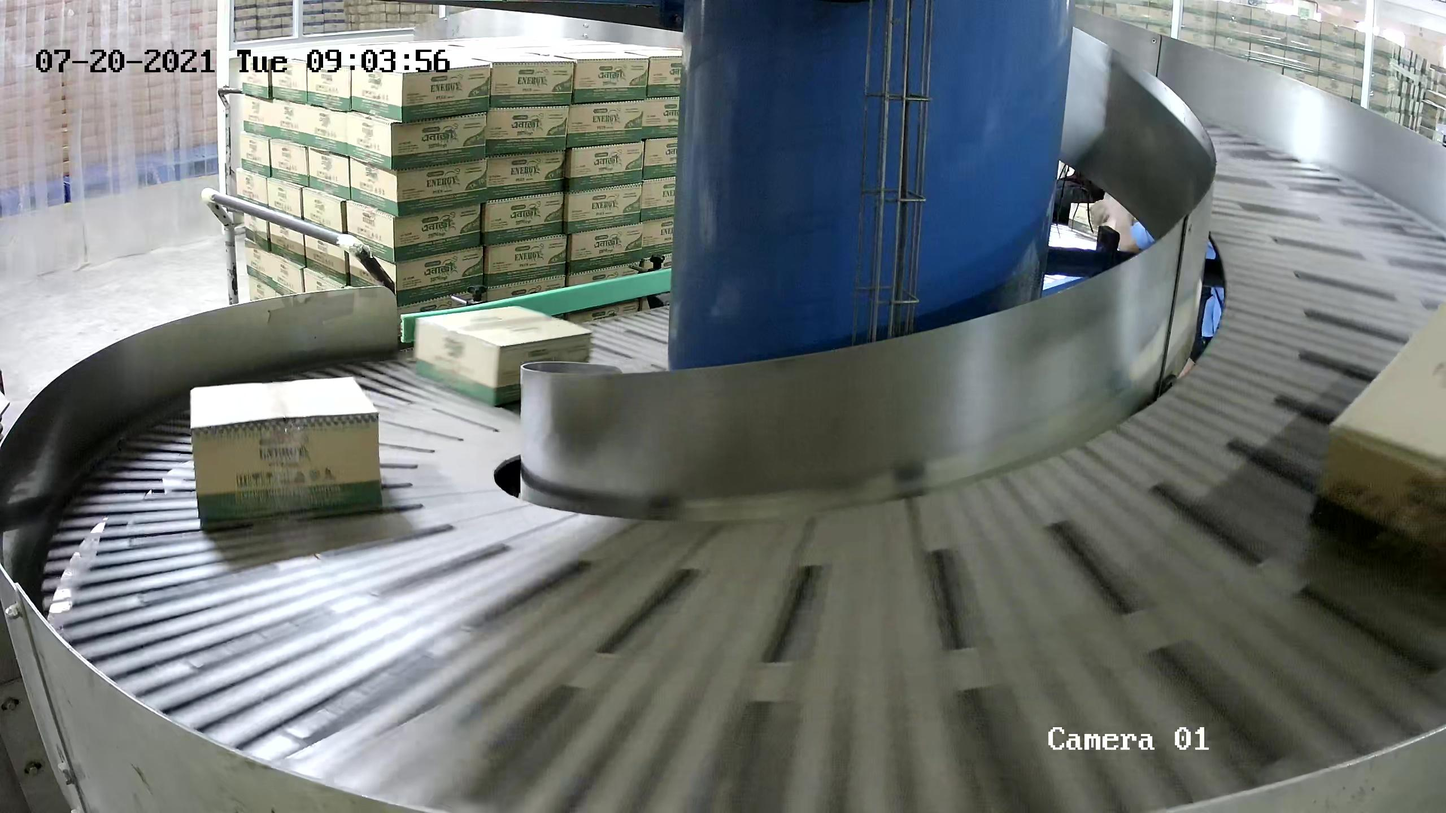Box: (1307, 258, 1446, 622), (189, 375, 385, 522), (415, 302, 595, 409)
